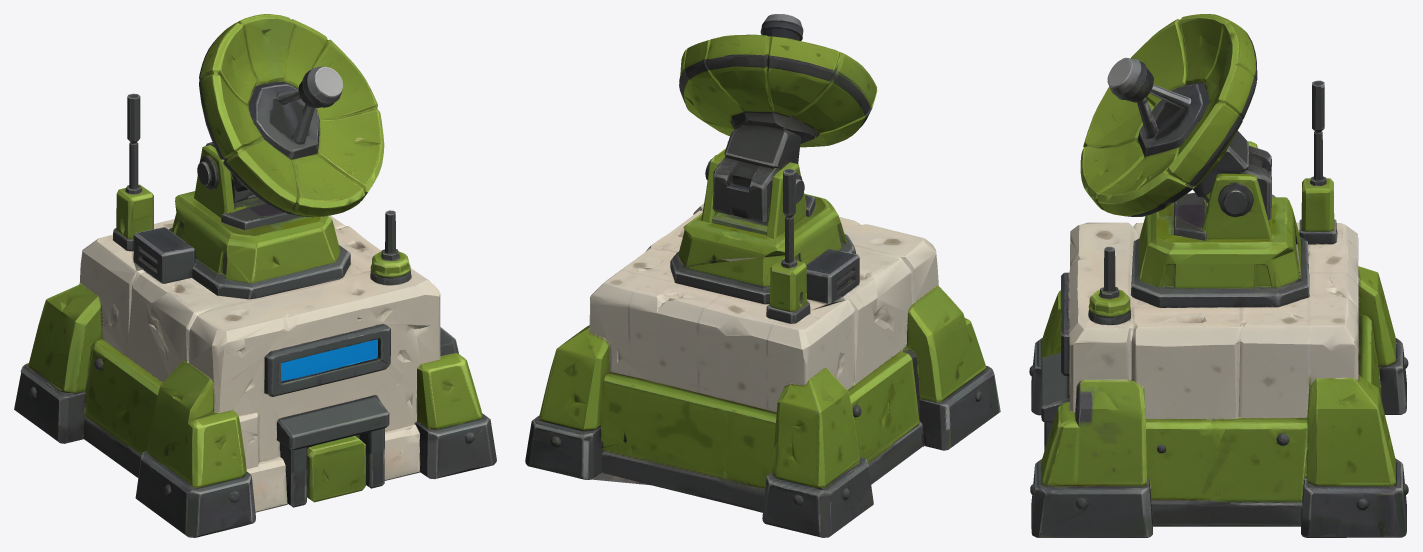
The model's file is m05_radar.glb.
The picture shows the model from 3 angles, left to right: view 1: azimuth 30°, elevation 25°; view 2: azimuth 150°, elevation 25°; view 3: azimuth 270°, elevation 25°; orthographic projection. The views are drawn at different scales.
Bounding box in the file's own units: 1.5 × 1.9 × 1.51.
Materials: 1 (1 with a texture image).
